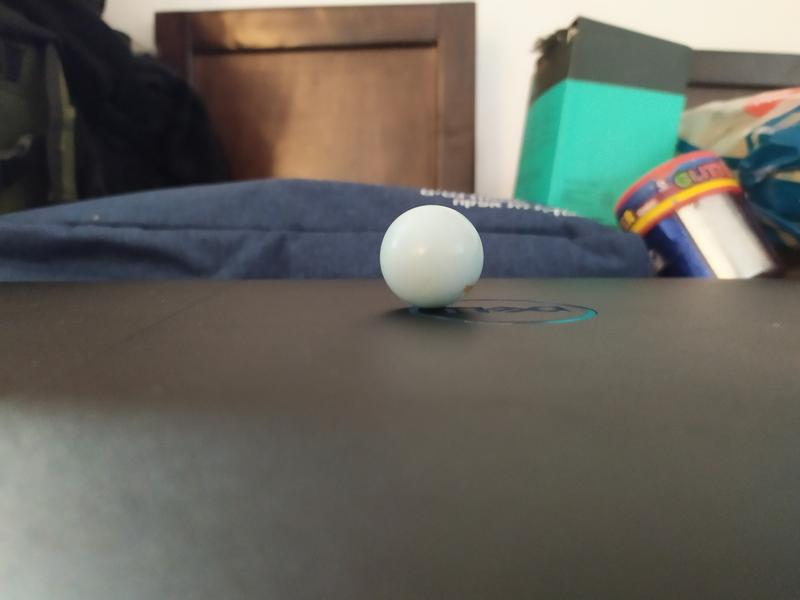Warning: (377, 201, 487, 311)
